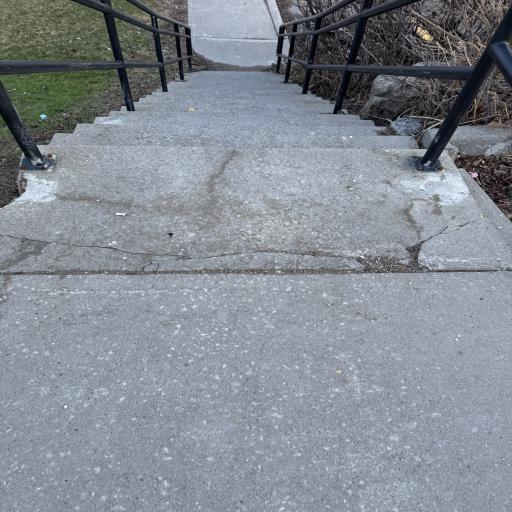Stairs: (0, 72, 512, 272), (52, 72, 418, 148)
